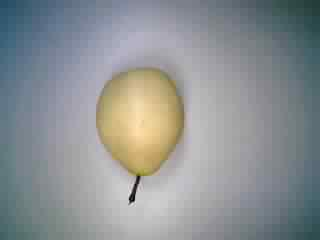pear: (85, 59, 191, 208)
